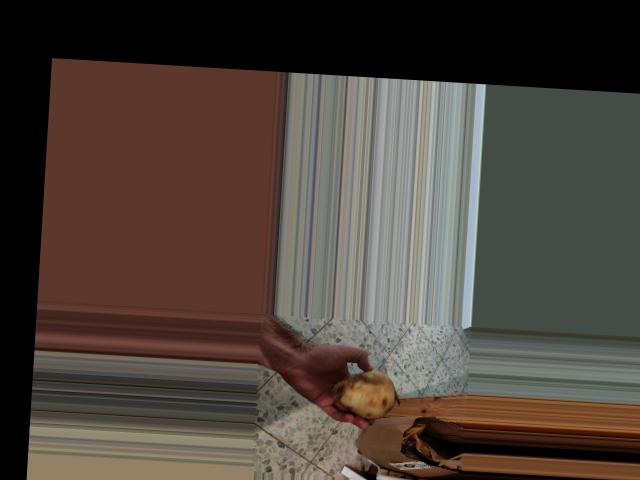onion: (328, 365, 400, 424)
